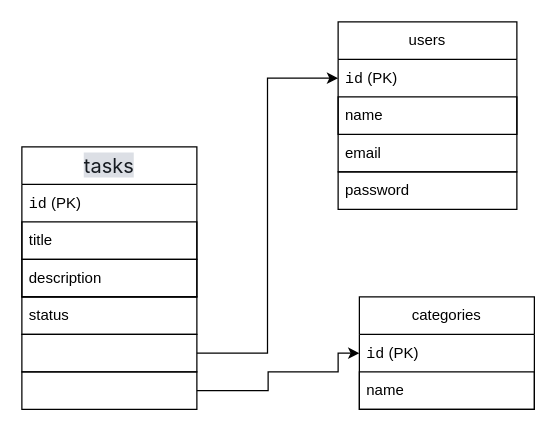
Some shapes in this 556 by 431 pixel diagram are drawn without their labels. The shapes that lost their labels are listed below. From the top down, each one's centre as x and y in pixels, then its label:
[109,352]: user_id
[109,390]: category_id
